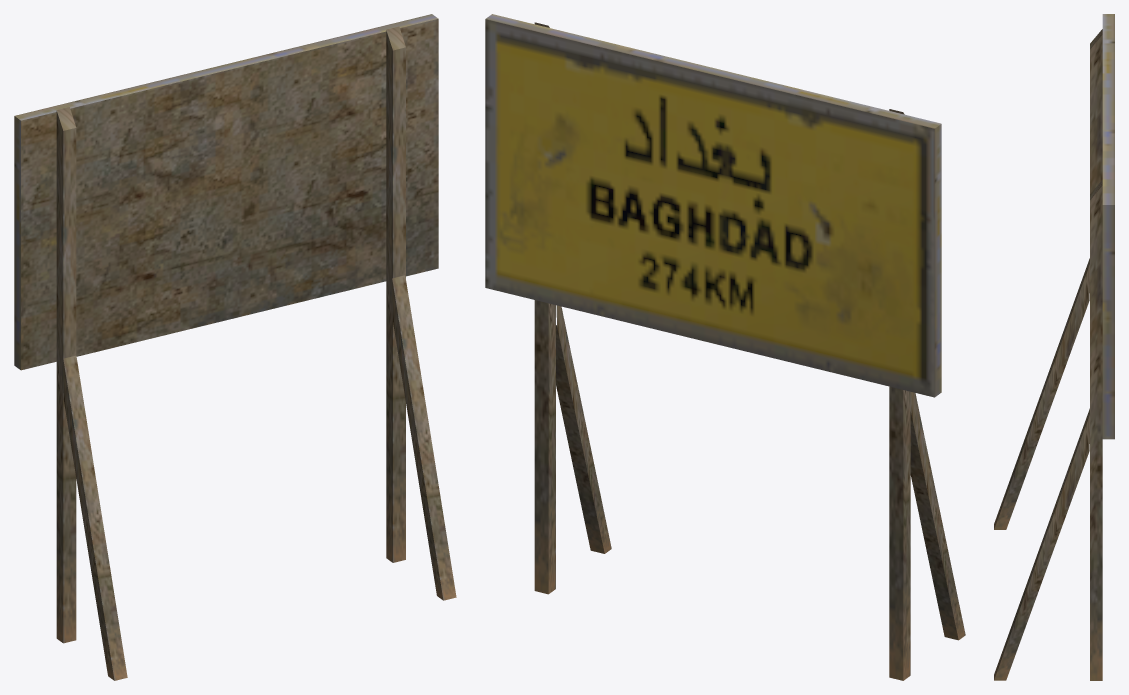
The model's file is Baghdad_Sign_01.glb.
The picture shows the model from 3 angles, left to right: view 1: azimuth 30°, elevation 25°; view 2: azimuth 150°, elevation 25°; view 3: azimuth 270°, elevation 25°; orthographic projection. The views are drawn at different scales.
Visible parts, largest first — view 1: BAGHDAD_SIGN_01; view 2: BAGHDAD_SIGN_01; view 3: BAGHDAD_SIGN_01.
Boxes of the visible parts, x1,y1,x2,y2 form: BAGHDAD_SIGN_01: (14,14,456,680); BAGHDAD_SIGN_01: (485,14,965,680); BAGHDAD_SIGN_01: (994,14,1114,680).
Size of the model in its own units: 1.15 by 1.39 by 0.307.
1 material, 1 textured.
